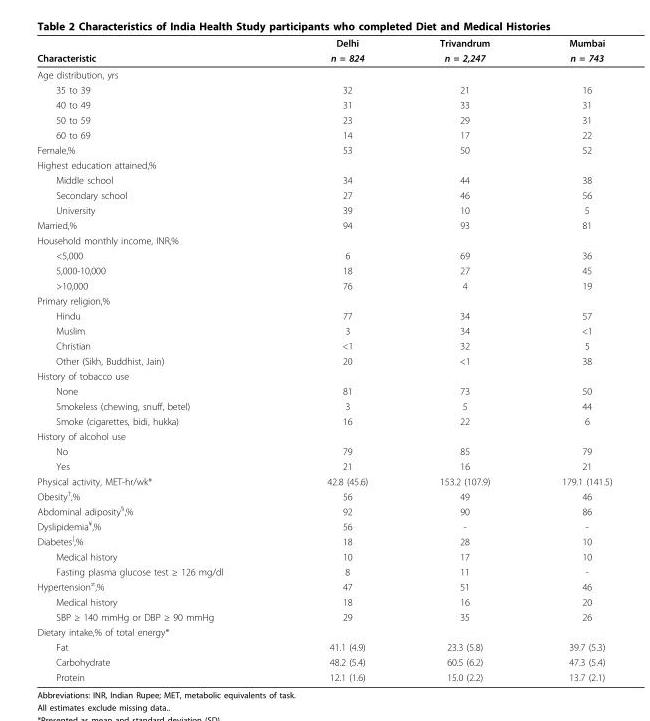table: (36, 36, 611, 682)
table column: (36, 36, 274, 682), (274, 36, 403, 682), (403, 36, 525, 682), (525, 36, 611, 682)
table column header: (36, 36, 611, 66)
table projected row header: (36, 66, 611, 81), (36, 157, 611, 172), (36, 232, 611, 247), (36, 292, 611, 307), (36, 368, 611, 383), (36, 428, 611, 443), (36, 624, 611, 639)
table row: (36, 50, 611, 66), (36, 96, 611, 112), (36, 337, 611, 353), (36, 517, 611, 533), (36, 578, 611, 594), (36, 66, 611, 81), (36, 81, 611, 96), (36, 112, 611, 127), (36, 127, 611, 142), (36, 142, 611, 157), (36, 157, 611, 172), (36, 172, 611, 187), (36, 187, 611, 202), (36, 202, 611, 217), (36, 217, 611, 232), (36, 232, 611, 247), (36, 247, 611, 262), (36, 262, 611, 277), (36, 277, 611, 292), (36, 292, 611, 307), (36, 307, 611, 322), (36, 322, 611, 337), (36, 353, 611, 368), (36, 368, 611, 383), (36, 383, 611, 398), (36, 398, 611, 413), (36, 413, 611, 428), (36, 428, 611, 443), (36, 443, 611, 458), (36, 458, 611, 473), (36, 487, 611, 502), (36, 502, 611, 517), (36, 533, 611, 548), (36, 548, 611, 563), (36, 563, 611, 578), (36, 594, 611, 609), (36, 609, 611, 624), (36, 624, 611, 639), (36, 639, 611, 654), (36, 654, 611, 669), (36, 36, 611, 50), (36, 473, 611, 487), (36, 669, 611, 682)
table spanning cell: (36, 36, 274, 66), (274, 36, 403, 66), (403, 36, 525, 66), (525, 36, 611, 66)
